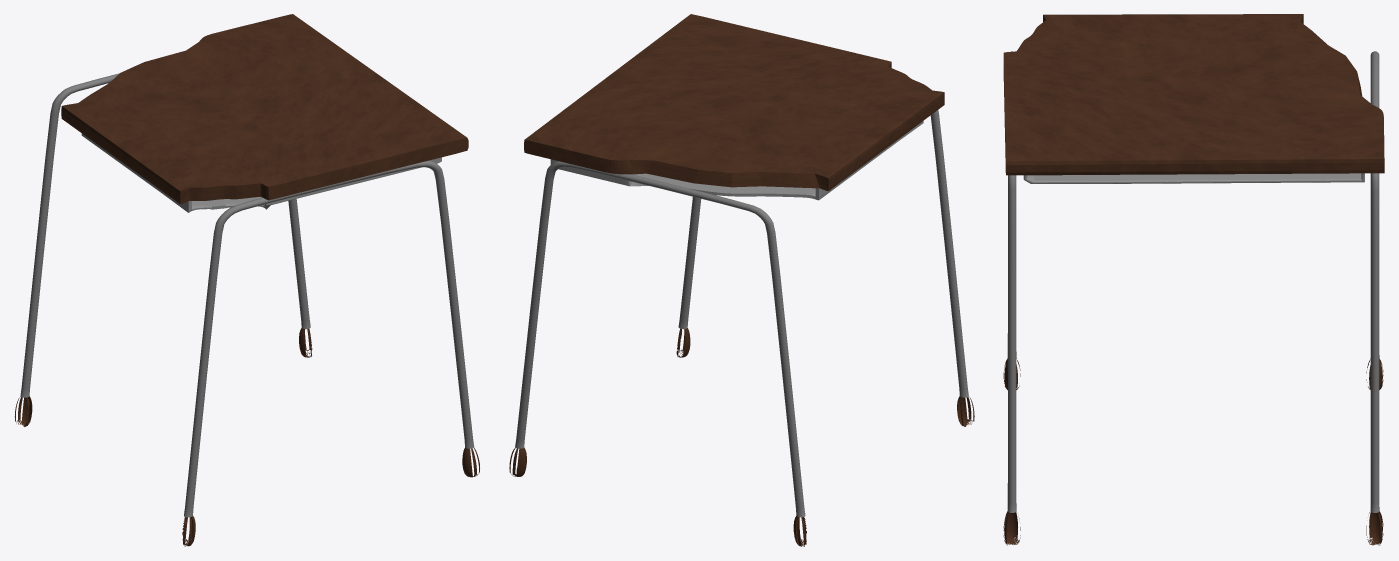
Rendered from mesa quebrada.fbx.
The picture shows the model from 3 angles, left to right: view 1: azimuth 30°, elevation 25°; view 2: azimuth 150°, elevation 25°; view 3: azimuth 270°, elevation 25°; orthographic projection. The views are drawn at different scales.
Parts seen in each view (by area): view 1: mesa quebrada_LOD0; view 2: mesa quebrada_LOD0; view 3: mesa quebrada_LOD0.
Boxes of the visible parts, bbox=[...] form: mesa quebrada_LOD0: bbox=[14, 14, 479, 546]; mesa quebrada_LOD0: bbox=[509, 14, 974, 546]; mesa quebrada_LOD0: bbox=[1003, 14, 1384, 545].
Size of what is drawn, in the model's own units: 69.71 by 75.91 by 68.84.
3 materials, 1 textured.
